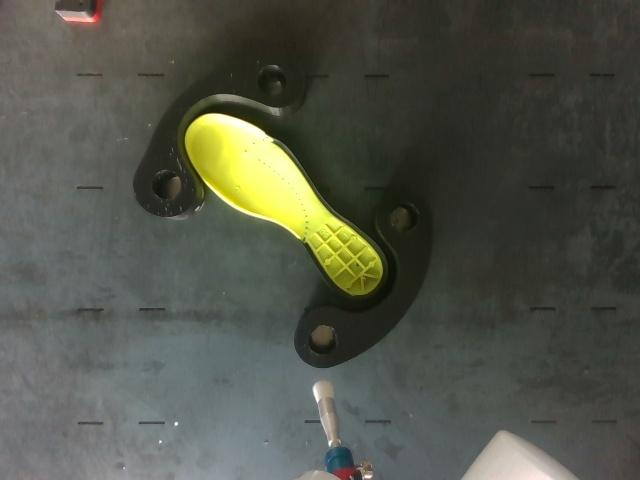shoes: (185, 114, 386, 299)
